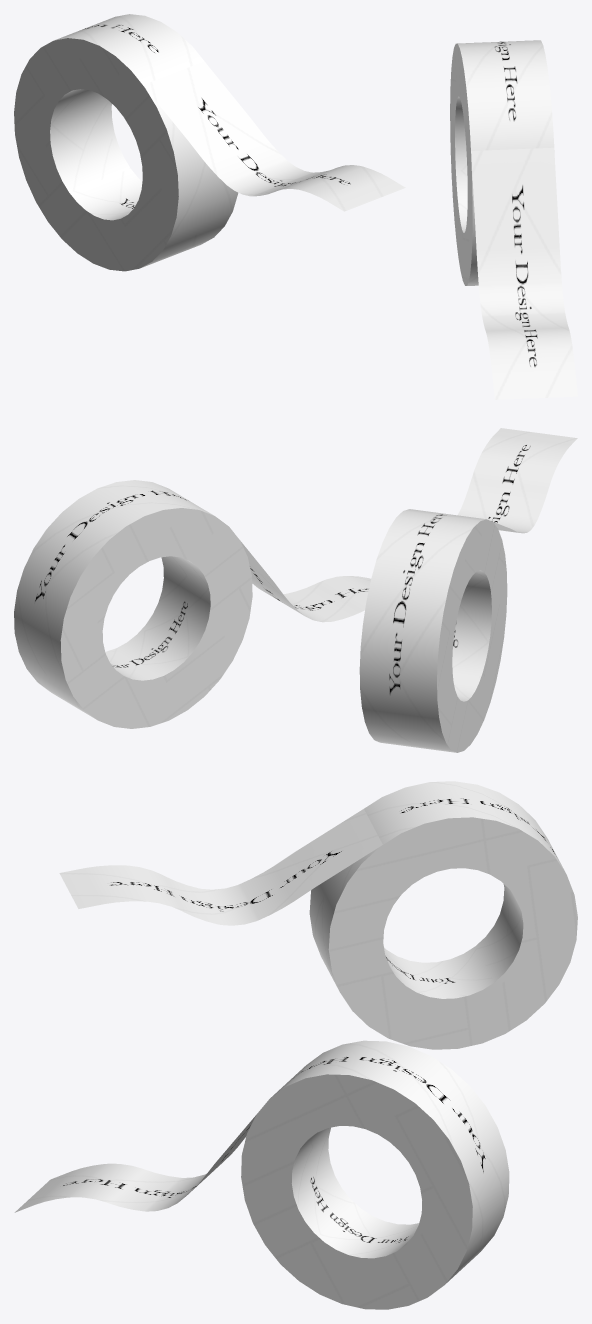
File: Box_Tape A-3.glb
3 views of the same model, one above another, from view 1: azimuth 30°, elevation 25°; view 2: azimuth 150°, elevation 25°; view 3: azimuth 270°, elevation 25° (orthographic). The views are drawn at different scales.
Visible parts, largest first — view 1: Tape_roll, Tape_roll.001; view 2: Tape_roll.001, Tape_roll; view 3: Tape_roll, Tape_roll.001.
Boxes of the visible parts, box(x1,y1,x2,y2) form: Tape_roll: box(14, 14, 405, 271); Tape_roll.001: box(450, 40, 577, 399); Tape_roll.001: box(14, 480, 370, 728); Tape_roll: box(359, 428, 577, 752); Tape_roll: box(59, 781, 577, 1049); Tape_roll.001: box(14, 1040, 509, 1309).
Bounding box in the file's own units: 0.1338 × 0.0804 × 0.1302.
1 material, 1 textured.
